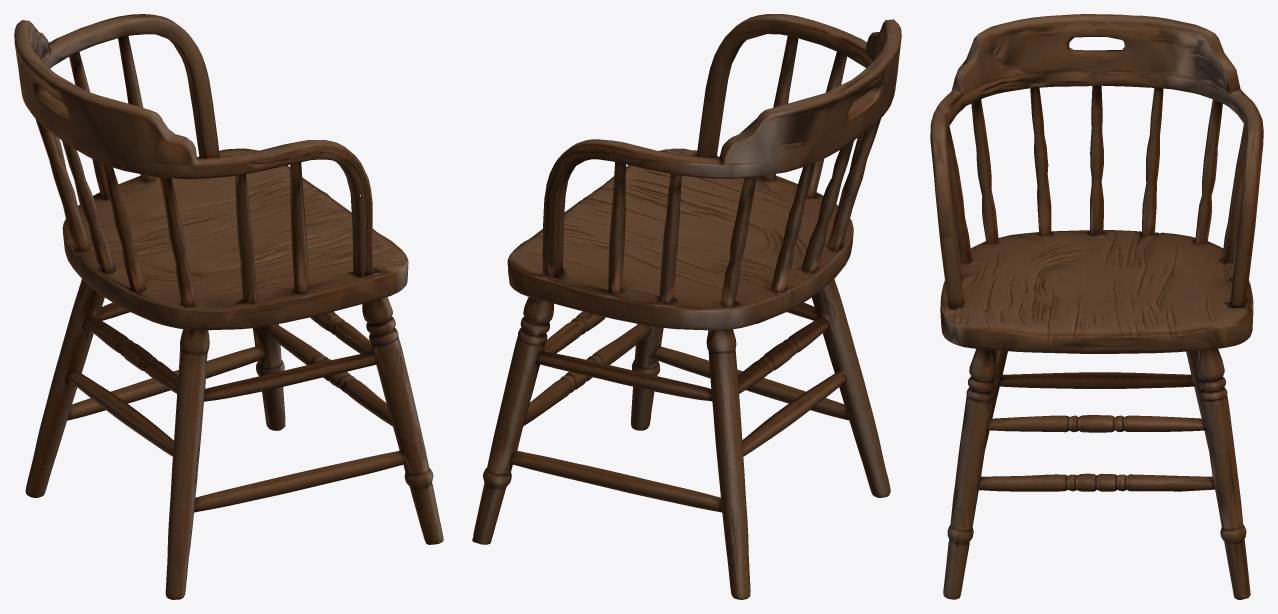
File: dining_chair.glb
The picture shows the model from 3 angles, left to right: view 1: azimuth 30°, elevation 25°; view 2: azimuth 150°, elevation 25°; view 3: azimuth 270°, elevation 25°; orthographic projection. The views are drawn at different scales.
Parts seen in each view (by area): view 1: tripo_node_ee7eace7-a23c-4e66-8e01-ad4023b2a87b; view 2: tripo_node_ee7eace7-a23c-4e66-8e01-ad4023b2a87b; view 3: tripo_node_ee7eace7-a23c-4e66-8e01-ad4023b2a87b.
Part boxes in pixels (left/top/right/bottom): tripo_node_ee7eace7-a23c-4e66-8e01-ad4023b2a87b: left=14, top=14, right=443, bottom=599; tripo_node_ee7eace7-a23c-4e66-8e01-ad4023b2a87b: left=472, top=14, right=901, bottom=599; tripo_node_ee7eace7-a23c-4e66-8e01-ad4023b2a87b: left=930, top=14, right=1263, bottom=599.
Bounding box in the file's own units: 0.6725 × 0.9797 × 0.662.
Materials: 1 (1 with a texture image).
